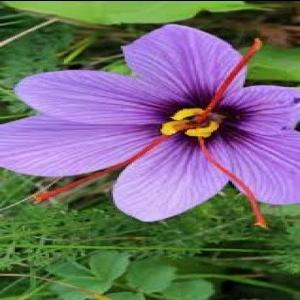Saffron: (0, 23, 300, 220)
